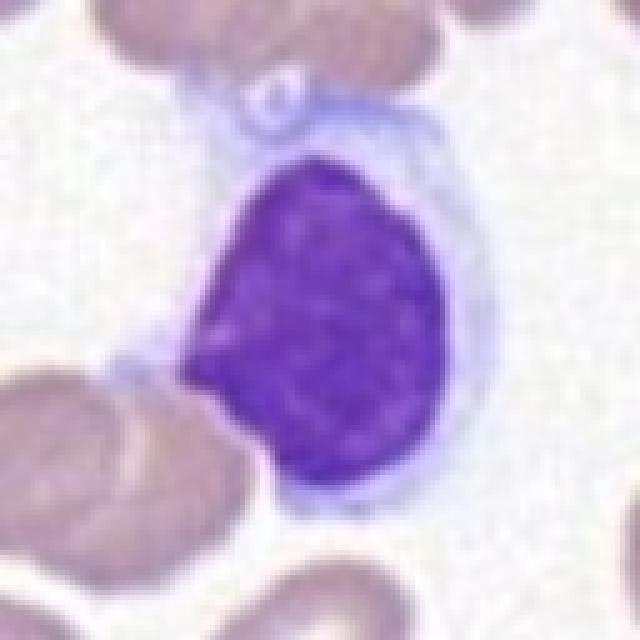lympho: (96, 30, 551, 535)
